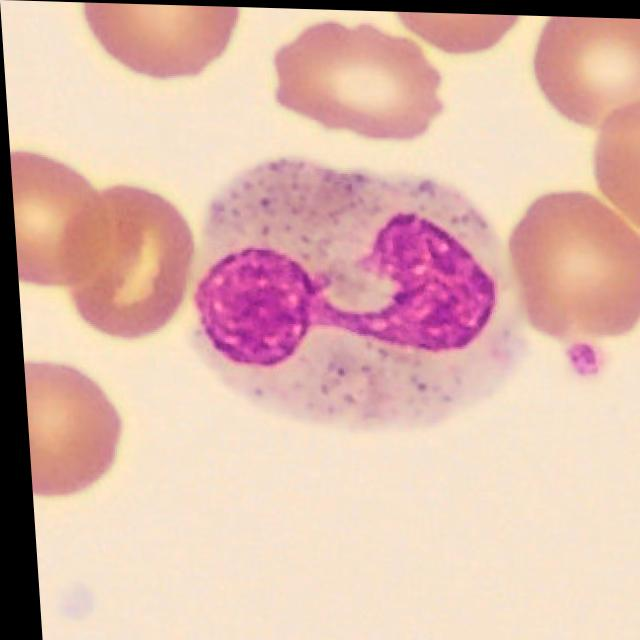Neutrofilo segmentado: (185, 154, 526, 431)
